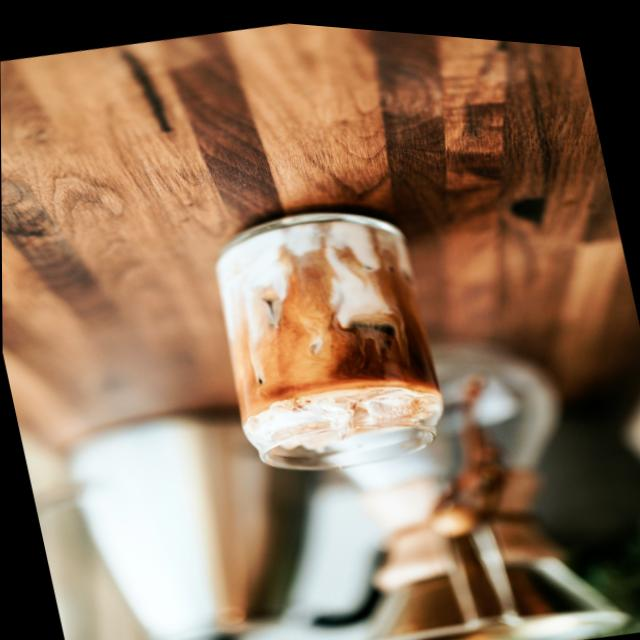drink: (214, 214, 446, 465)
